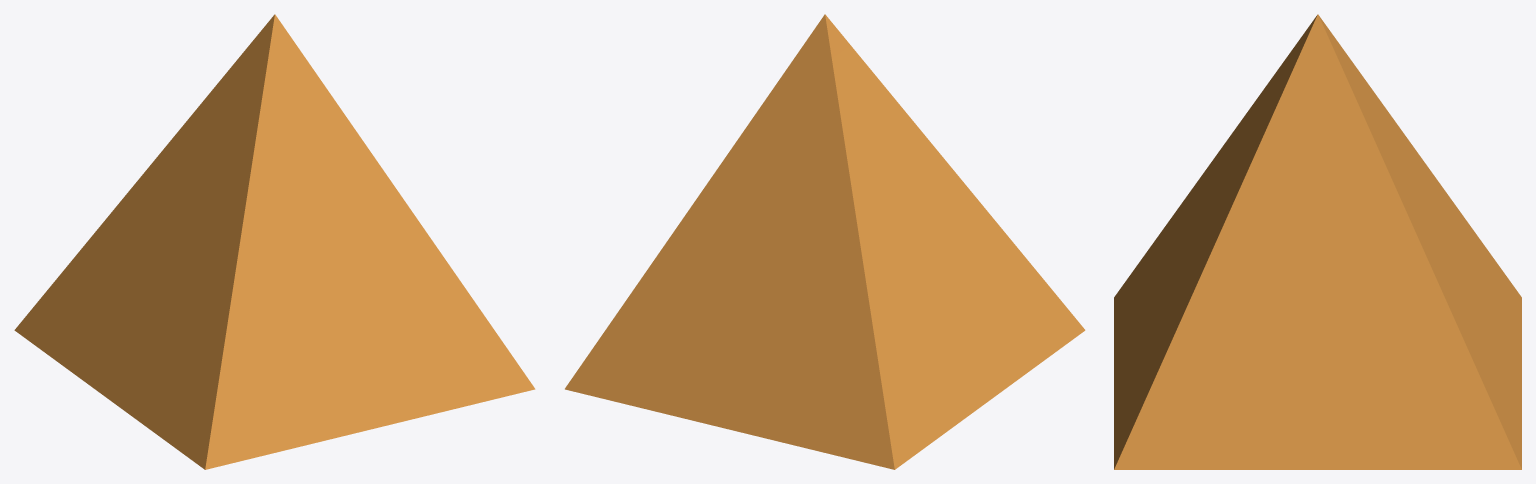
File: pyramide_vertex.glb
The picture shows the model from 3 angles, left to right: view 1: azimuth 30°, elevation 25°; view 2: azimuth 150°, elevation 25°; view 3: azimuth 270°, elevation 25°; orthographic projection. The views are drawn at different scales.
Parts seen in each view (by area): view 1: pyramide; view 2: pyramide; view 3: pyramide.
Part boxes in pixels (bbox=[...]): pyramide: bbox=[14, 14, 535, 469]; pyramide: bbox=[565, 14, 1085, 469]; pyramide: bbox=[1114, 14, 1521, 469].
Bounding box in the file's own units: 2 × 2 × 2.
